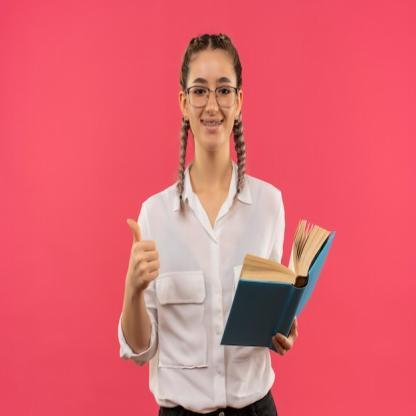thumb_up: (124, 212, 162, 291)
